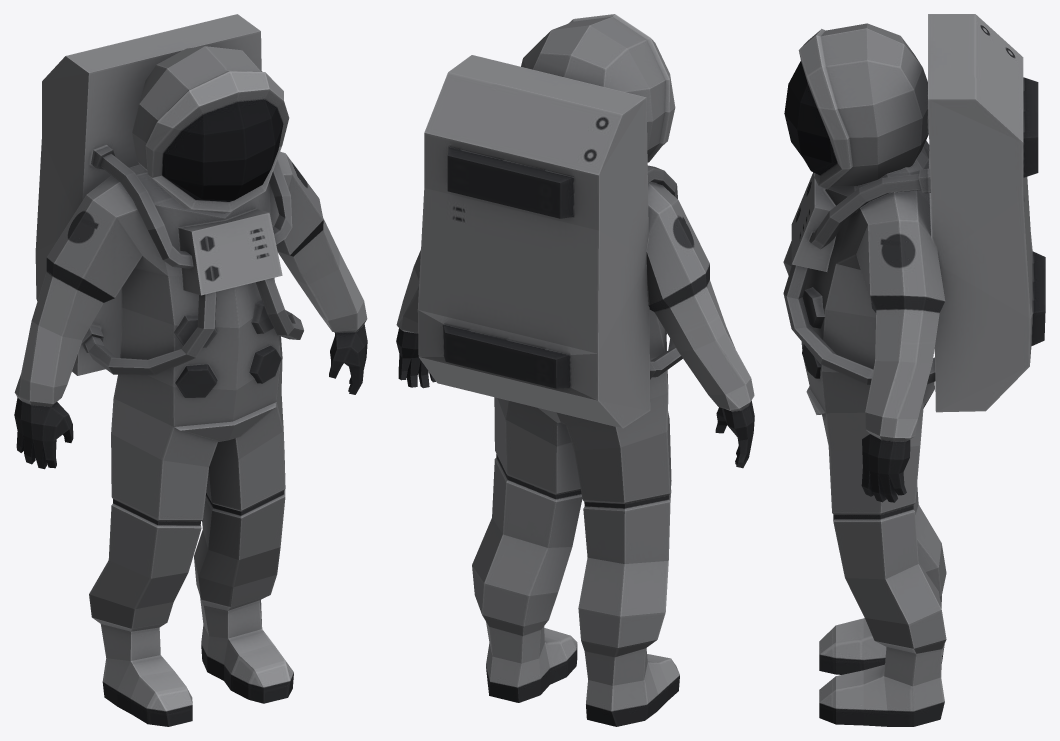
Rendered from astronauta.glb.
3 renders of one model, left to right at view 1: azimuth 30°, elevation 25°; view 2: azimuth 150°, elevation 25°; view 3: azimuth 270°, elevation 25°, orthographic.
Parts seen in each view (by area): view 1: node-0; view 2: node-0; view 3: node-0.
Part boxes in pixels (x1,y1,x2,y2): node-0: [14, 14, 367, 726]; node-0: [396, 14, 754, 726]; node-0: [783, 14, 1045, 726].
Size of the model in its own units: 1.12 by 2.01 by 0.7235.
1 material, 1 textured.
